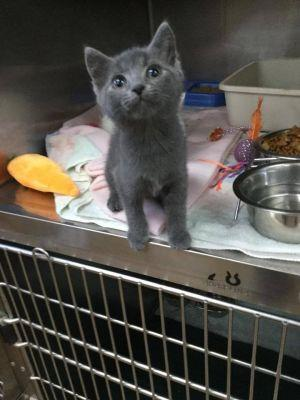rblue: (80, 17, 193, 136)
